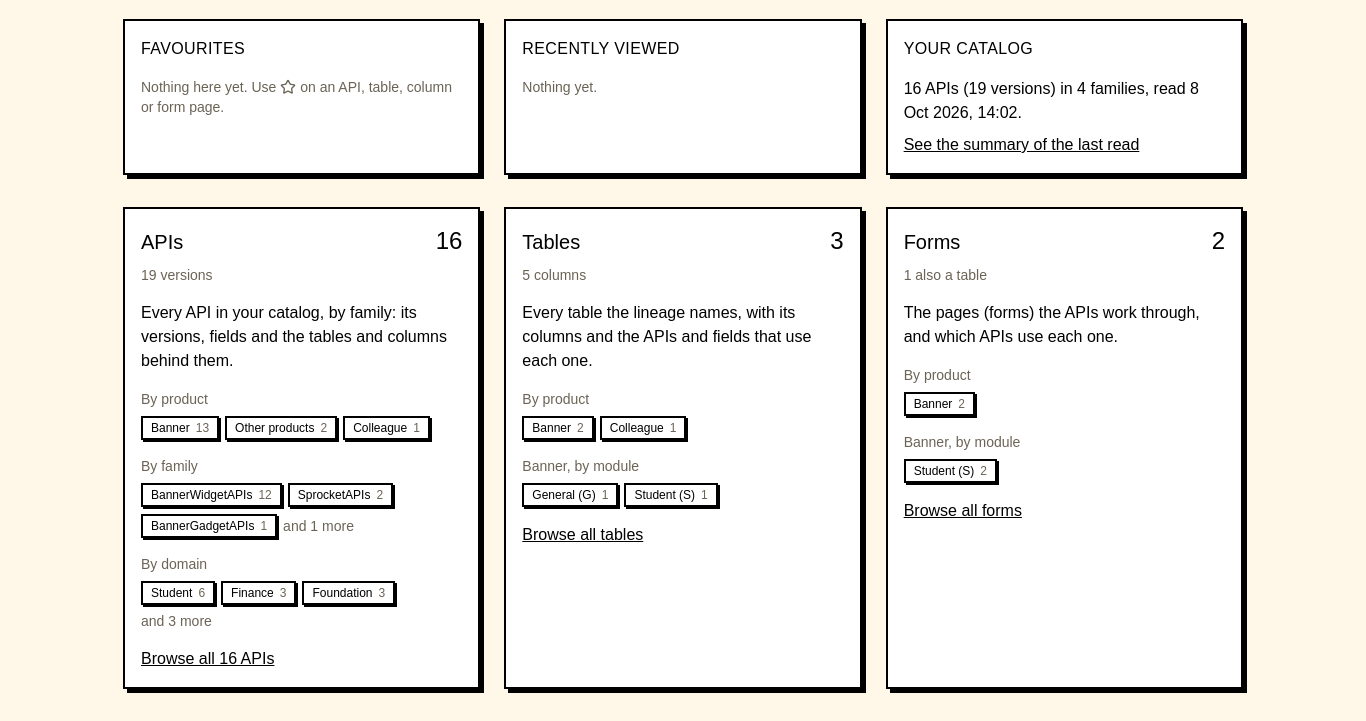
Test: the ways in › opens a list already filtered from a badge
(page scrolled)
Step 1. Click the link "Student (S) 1" → (671,494), box 624,482 -> 718,507
(page scrolled)
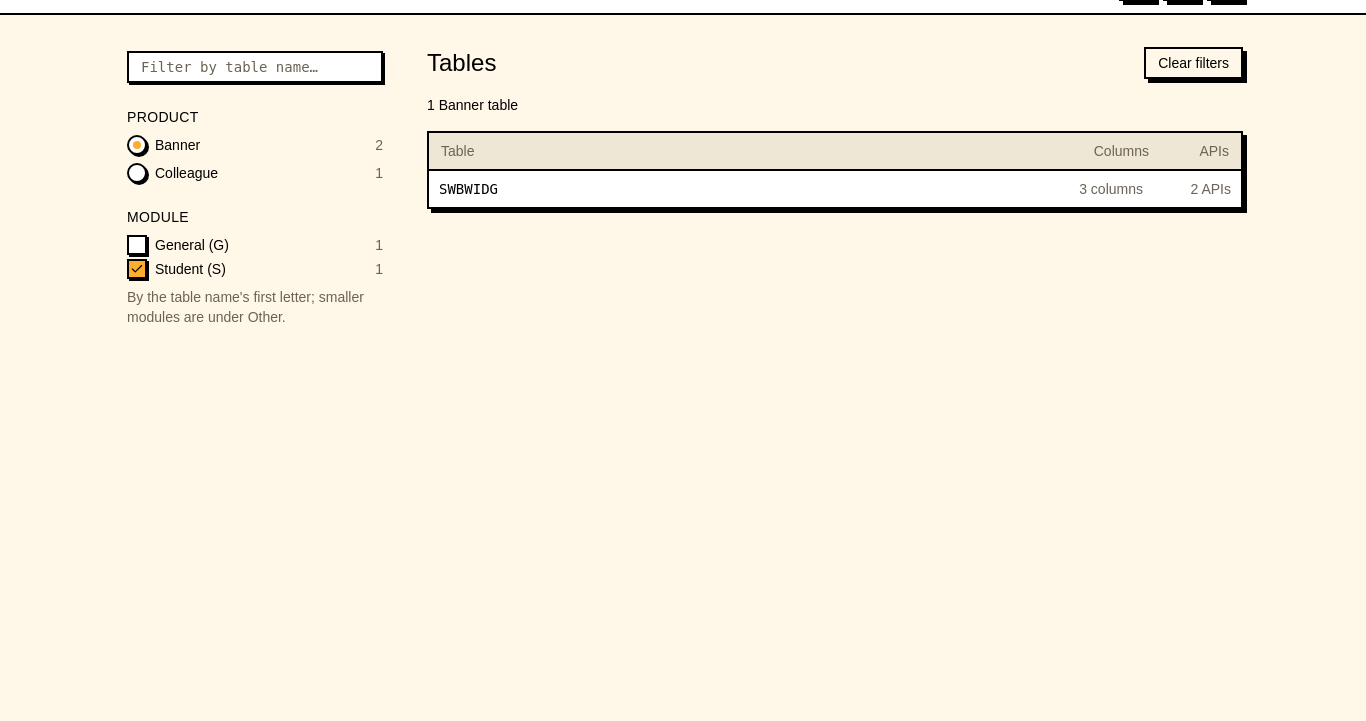
Check: the text "SWBWIDG" is shown, box 439,179 -> 498,199
